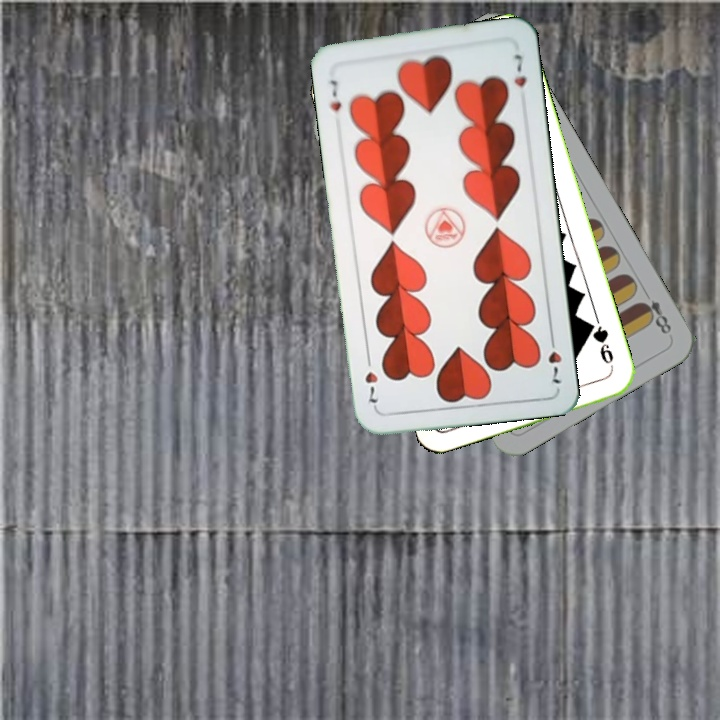E8: (635, 285, 675, 337)
G9: (584, 318, 617, 373)
H7: (544, 330, 565, 386), (326, 76, 344, 114)
